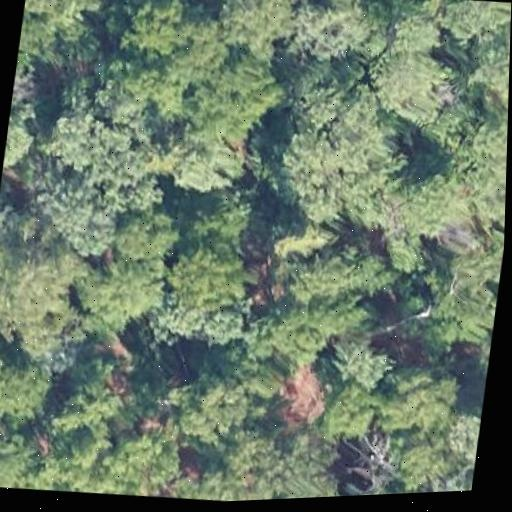tree-top: (124, 15, 279, 139), (281, 81, 408, 230), (40, 372, 154, 500), (48, 86, 169, 193), (241, 284, 373, 375), (0, 210, 85, 338), (268, 231, 404, 309), (324, 366, 460, 442), (31, 162, 133, 262), (371, 35, 469, 137), (162, 225, 268, 318), (401, 254, 497, 356), (362, 163, 464, 246), (432, 102, 508, 212), (161, 358, 256, 445), (77, 251, 165, 336), (288, 2, 379, 79), (104, 196, 189, 274), (221, 0, 310, 71), (219, 423, 298, 497), (0, 337, 65, 426), (321, 324, 406, 392), (168, 123, 240, 198), (55, 361, 120, 437), (117, 0, 196, 60), (186, 194, 256, 259), (469, 3, 511, 108), (421, 0, 512, 47), (2, 101, 48, 176), (22, 0, 124, 32), (0, 425, 41, 491)
